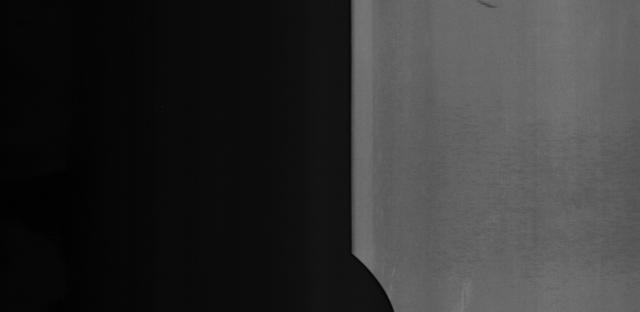crescent_gap: (335, 237, 410, 312)
